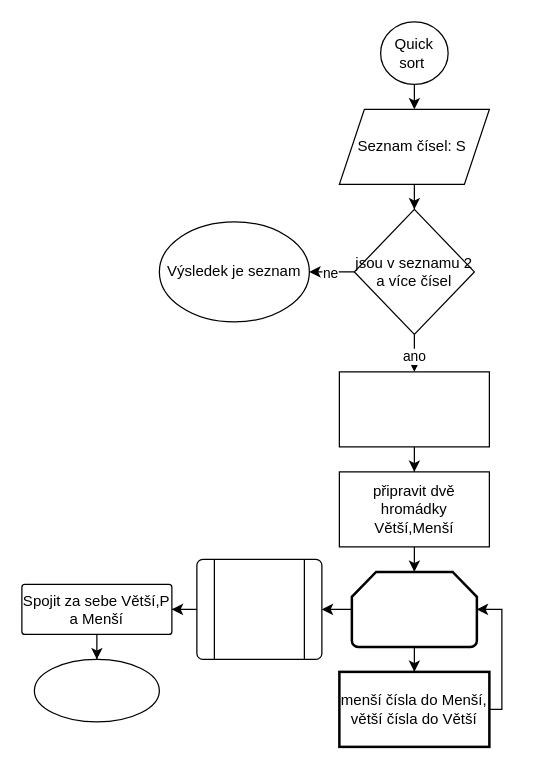
This 534x770 diagram has some shape labels left out. The shapes that lost their labels are listed below. From the top down, each one's centre as x and y in pixels, then its label:
At pixel 413 409: "Vybereme 1 čislo ze seznamu: P".
At pixel 259 608: "Zavolat QS zvlášť na Menší a zvlášť na Vetší".
At pixel 414 609: "všechna čísla kromě P".
At pixel 96 690: "Výsledek jsou spojená čísla".
